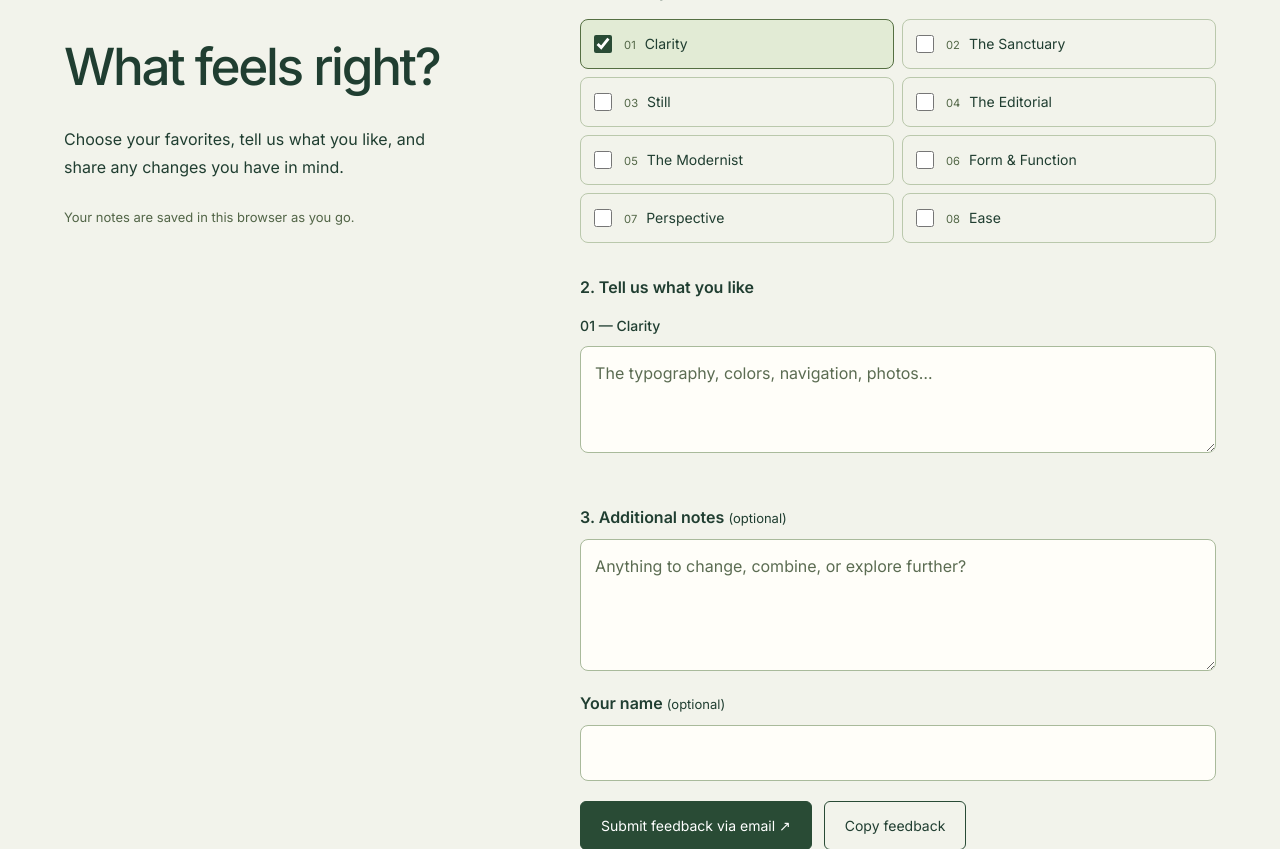
includes selected designs and user text in the copyable email without claiming delivery
This screenshot has width=1280, height=849.
(page scrolled)
Type "Spacing & colors" into the text box labelled "01 — Clarity" at point(898, 399), box left=580, top=346, right=1216, bottom=453
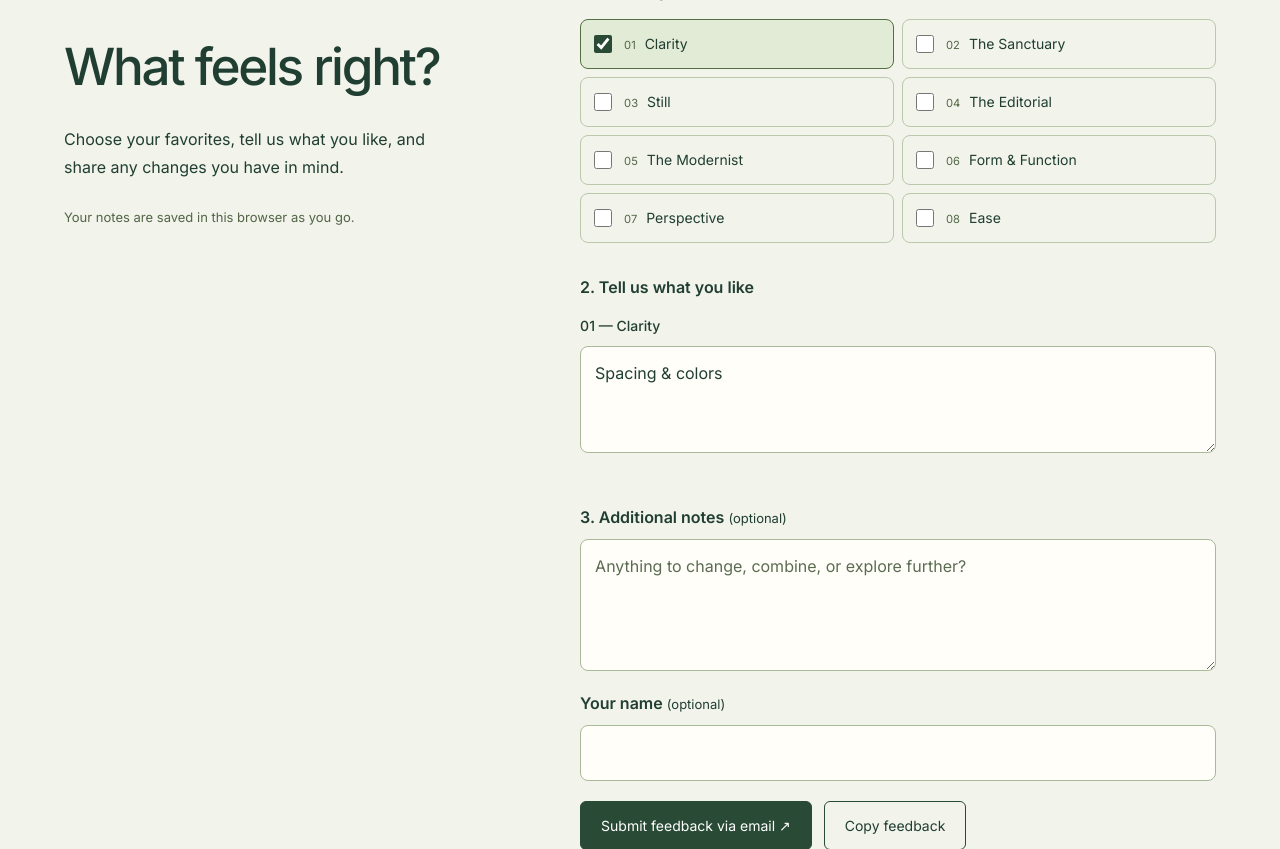
Click the button "Copy feedback" at point(895, 825), box left=824, top=800, right=966, bottom=848
(page scrolled)
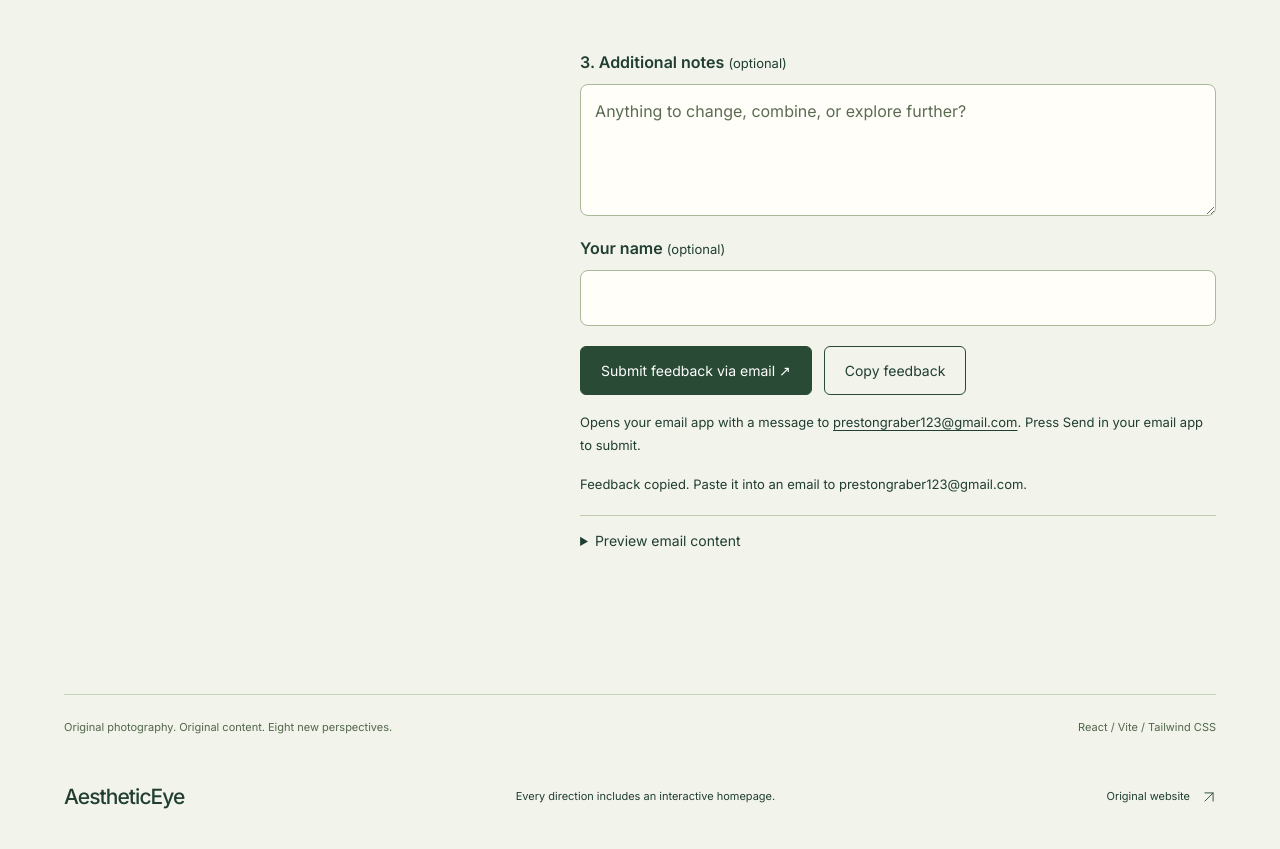
Result: the text "Feedback copied. Paste it into an email to prestongraber123@gmail.com." is shown at left=580, top=476, right=1027, bottom=492
